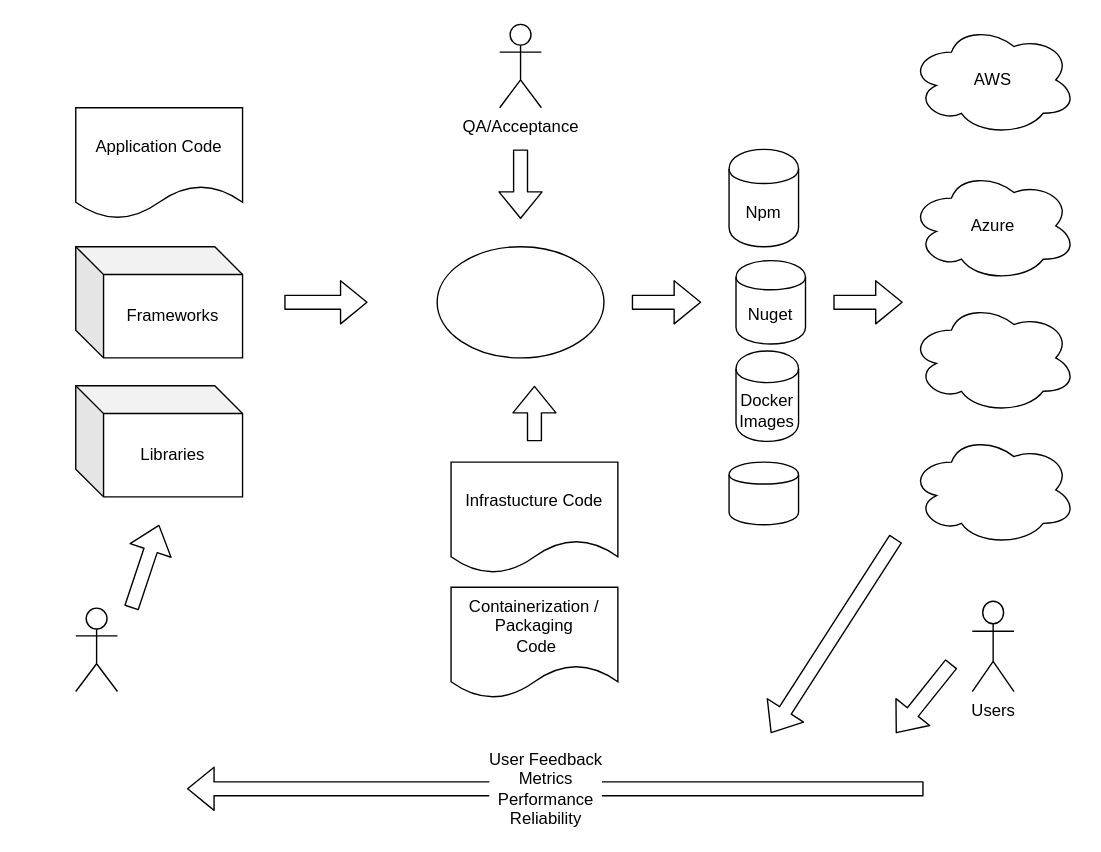
Image size: 1101x852. Some labels were removed from this diagram. The shapes that lost their labels are listed below. From the top down, each one's centre as x and y in pixels, then its label:
At point (520, 301): "CI/CD".
At point (992, 357): "GCP".
At point (763, 493): "zip files".
At point (992, 489): "On Prem".
At point (95, 649): "Product Teams DevOps Disciplines Development".
